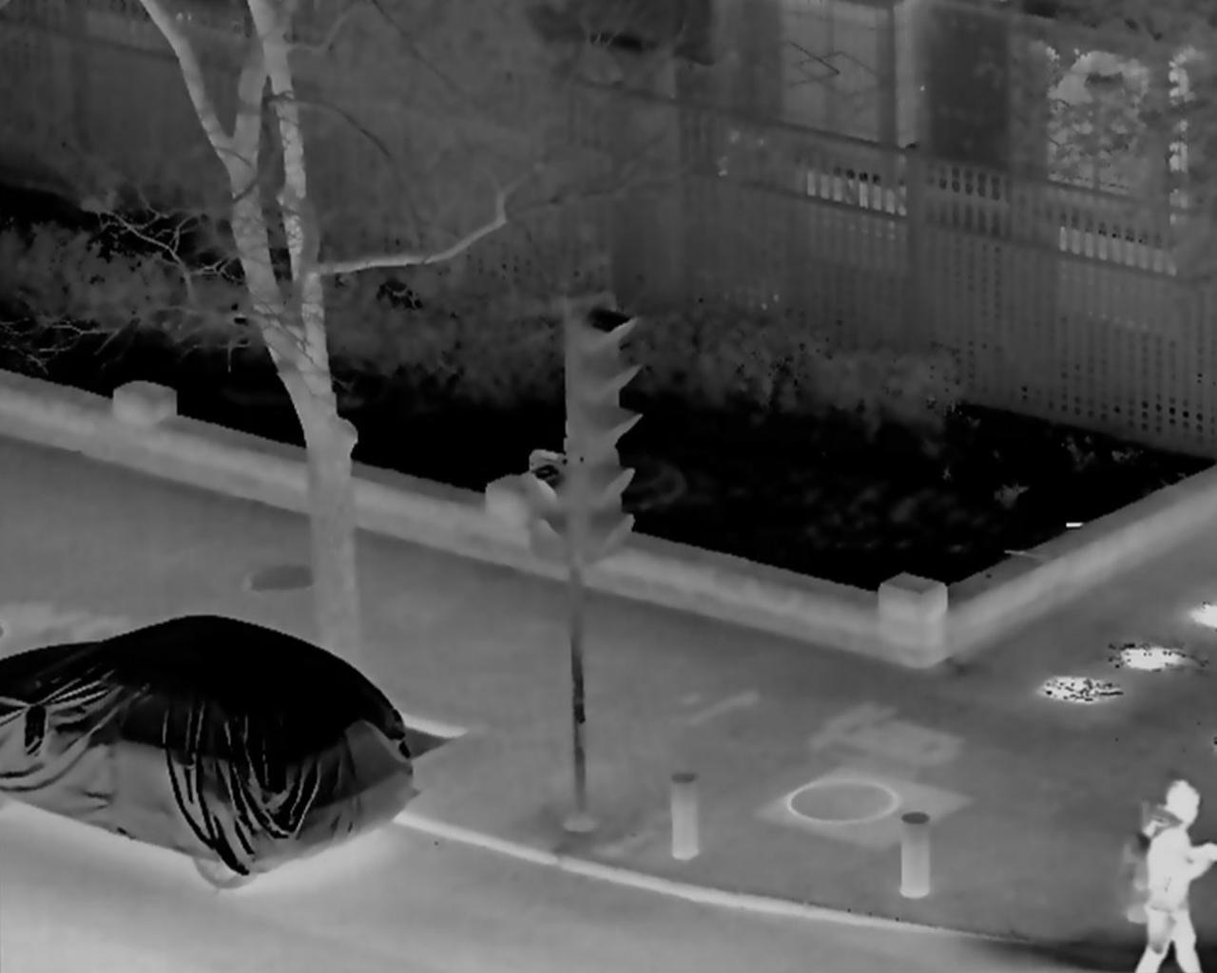person: (1110, 778, 1214, 973)
